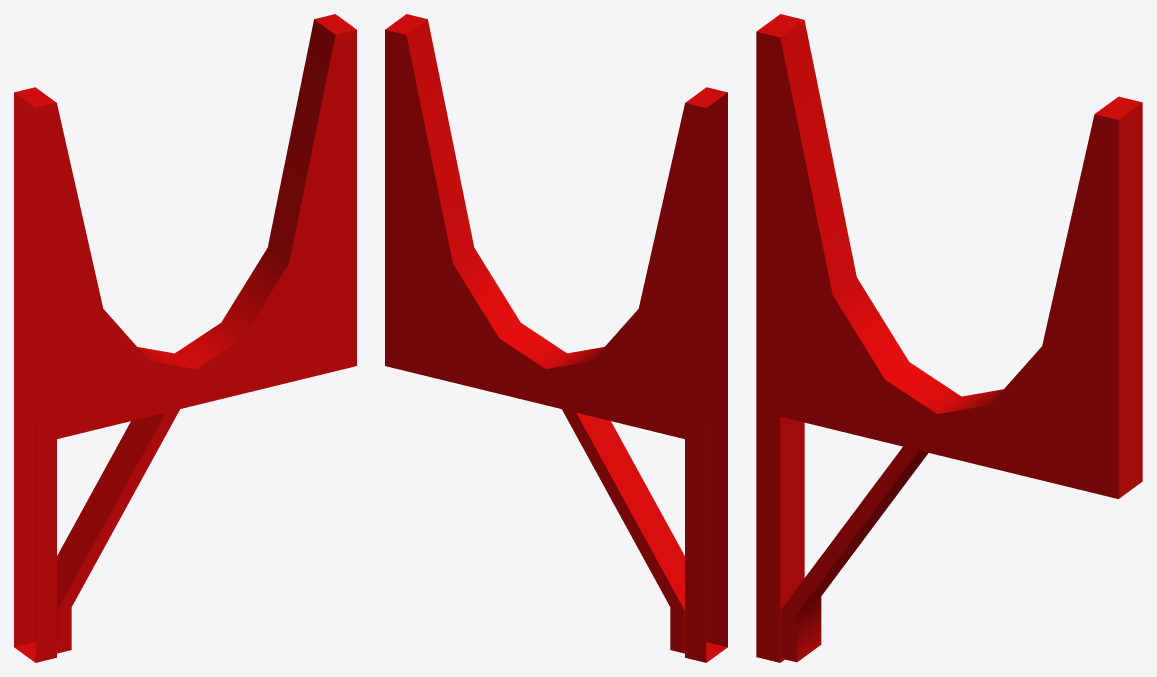
Rendered from Hook.fbx.
3 renders of one model, left to right at view 1: azimuth 30°, elevation 25°; view 2: azimuth 150°, elevation 25°; view 3: azimuth 330°, elevation 25°, orthographic. The views are drawn at different scales.
Parts seen in each view (by area): view 1: Hook; view 2: Hook; view 3: Hook.
Part boxes in pixels (<box>): Hook: <box>14,14,356,662</box>; Hook: <box>385,14,727,662</box>; Hook: <box>756,14,1142,662</box>.
Bounding box in the file's own units: 16.38 × 27.02 × 1.89.
